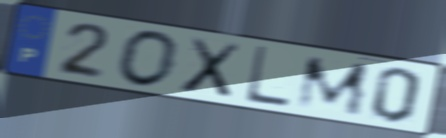0: (367, 65, 424, 126)
2: (57, 21, 111, 80)
L: (242, 44, 292, 110)
M: (293, 55, 372, 119)
O: (116, 28, 183, 90)
X: (177, 35, 244, 101)
